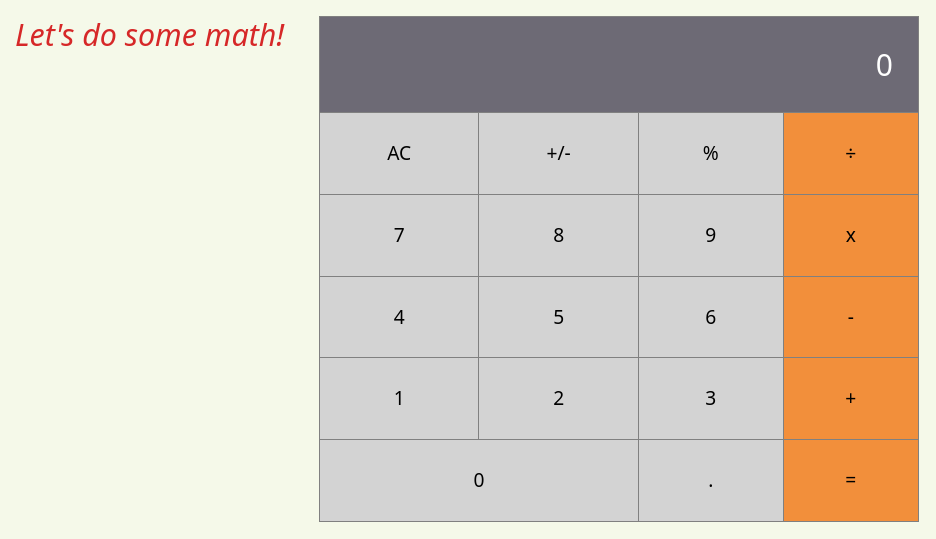
Test: Calculator component › Multiplication is carried out correctly
What coordinates should you click on to do the following:
click the button "2"
I would click on:
 (559, 399)
Its box is [547, 383, 570, 414].
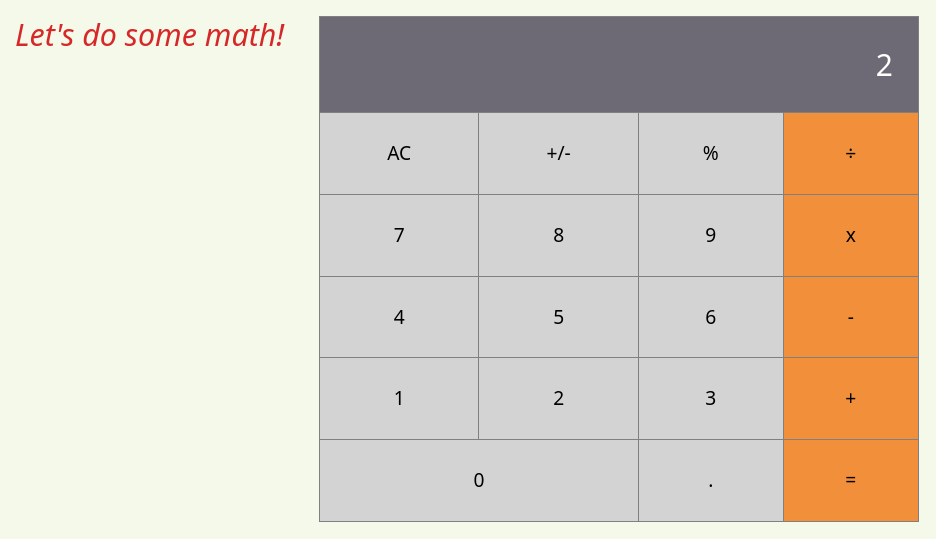
What coordinates should you click on to do the following:
click the button "x"
I would click on:
 (851, 235)
Its box is [840, 220, 862, 251].
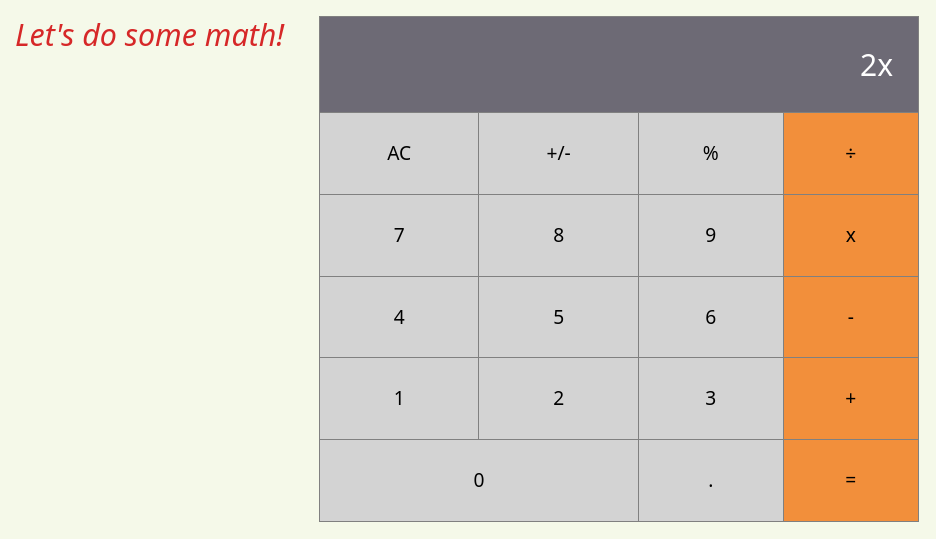
What coordinates should you click on to do the following:
click the button "3"
I would click on:
 (711, 399)
Its box is [699, 383, 722, 414].
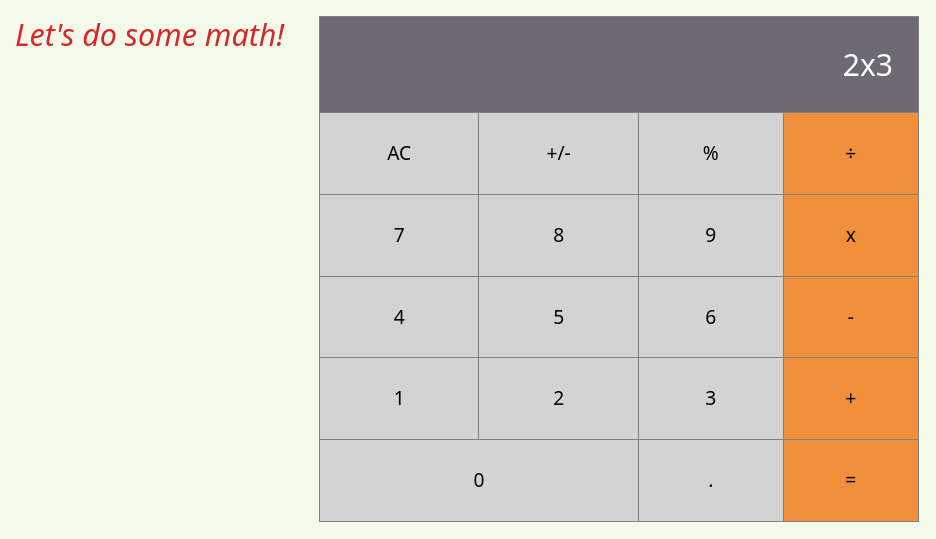
What coordinates should you click on to do the following:
click the button "="
I would click on:
 (851, 481)
Its box is [839, 465, 862, 496].
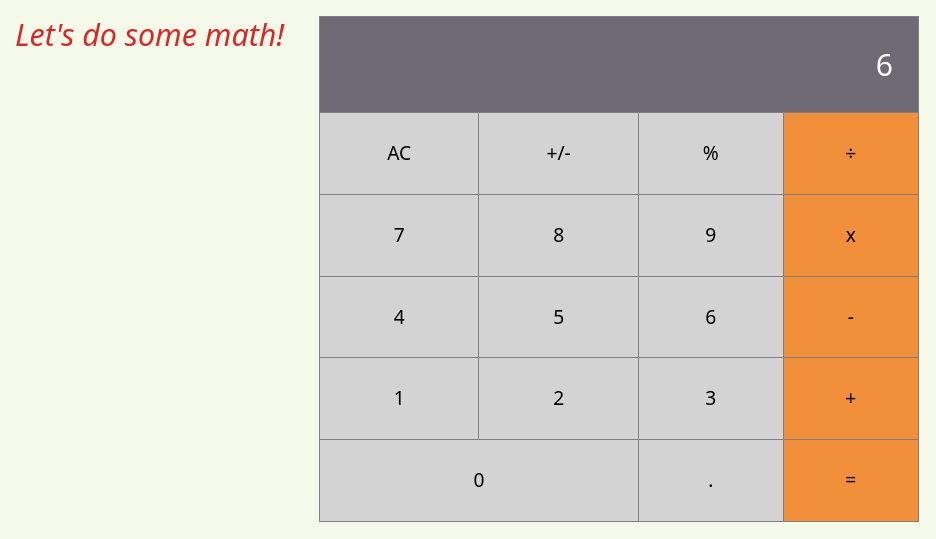
Result: the text "6" is shown at [320, 16, 918, 112]
